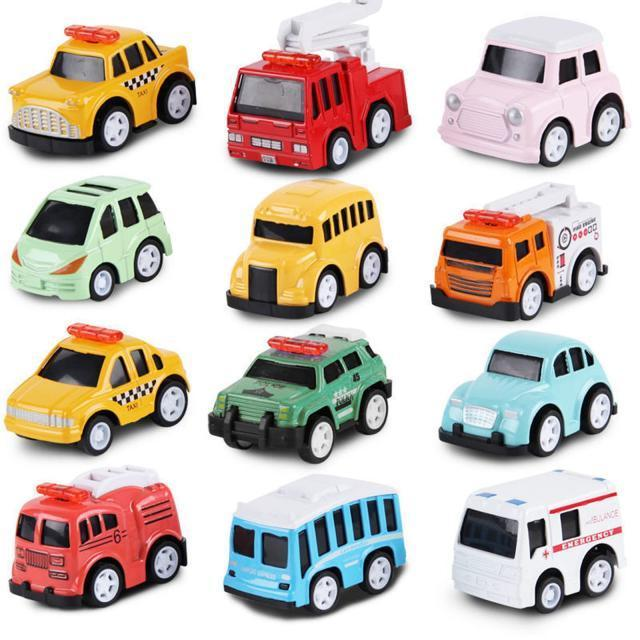hard-toy: (227, 1, 412, 169), (442, 19, 627, 165), (209, 325, 394, 463), (11, 466, 190, 607), (224, 476, 406, 614), (5, 324, 191, 455), (431, 184, 609, 320), (10, 26, 197, 154), (456, 472, 624, 613), (227, 180, 390, 319), (440, 332, 619, 457), (12, 177, 174, 301)
